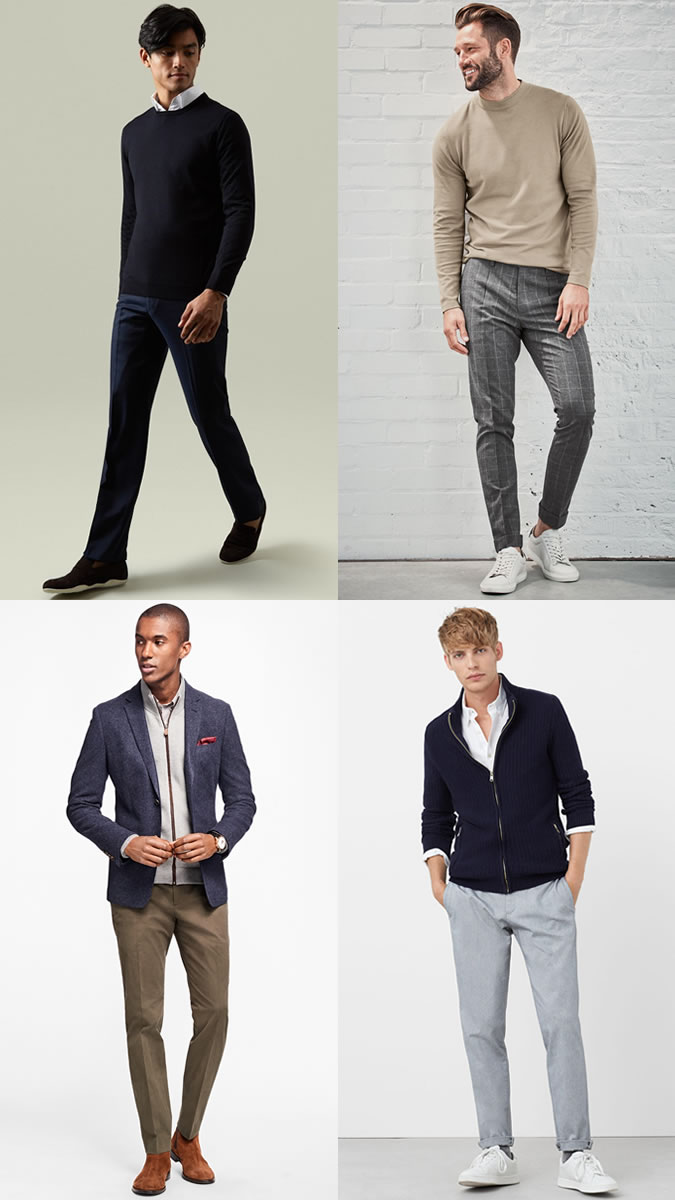NOTSAFE: (423, 606, 572, 910), (103, 604, 235, 922), (117, 4, 238, 334), (447, 1, 579, 276)
